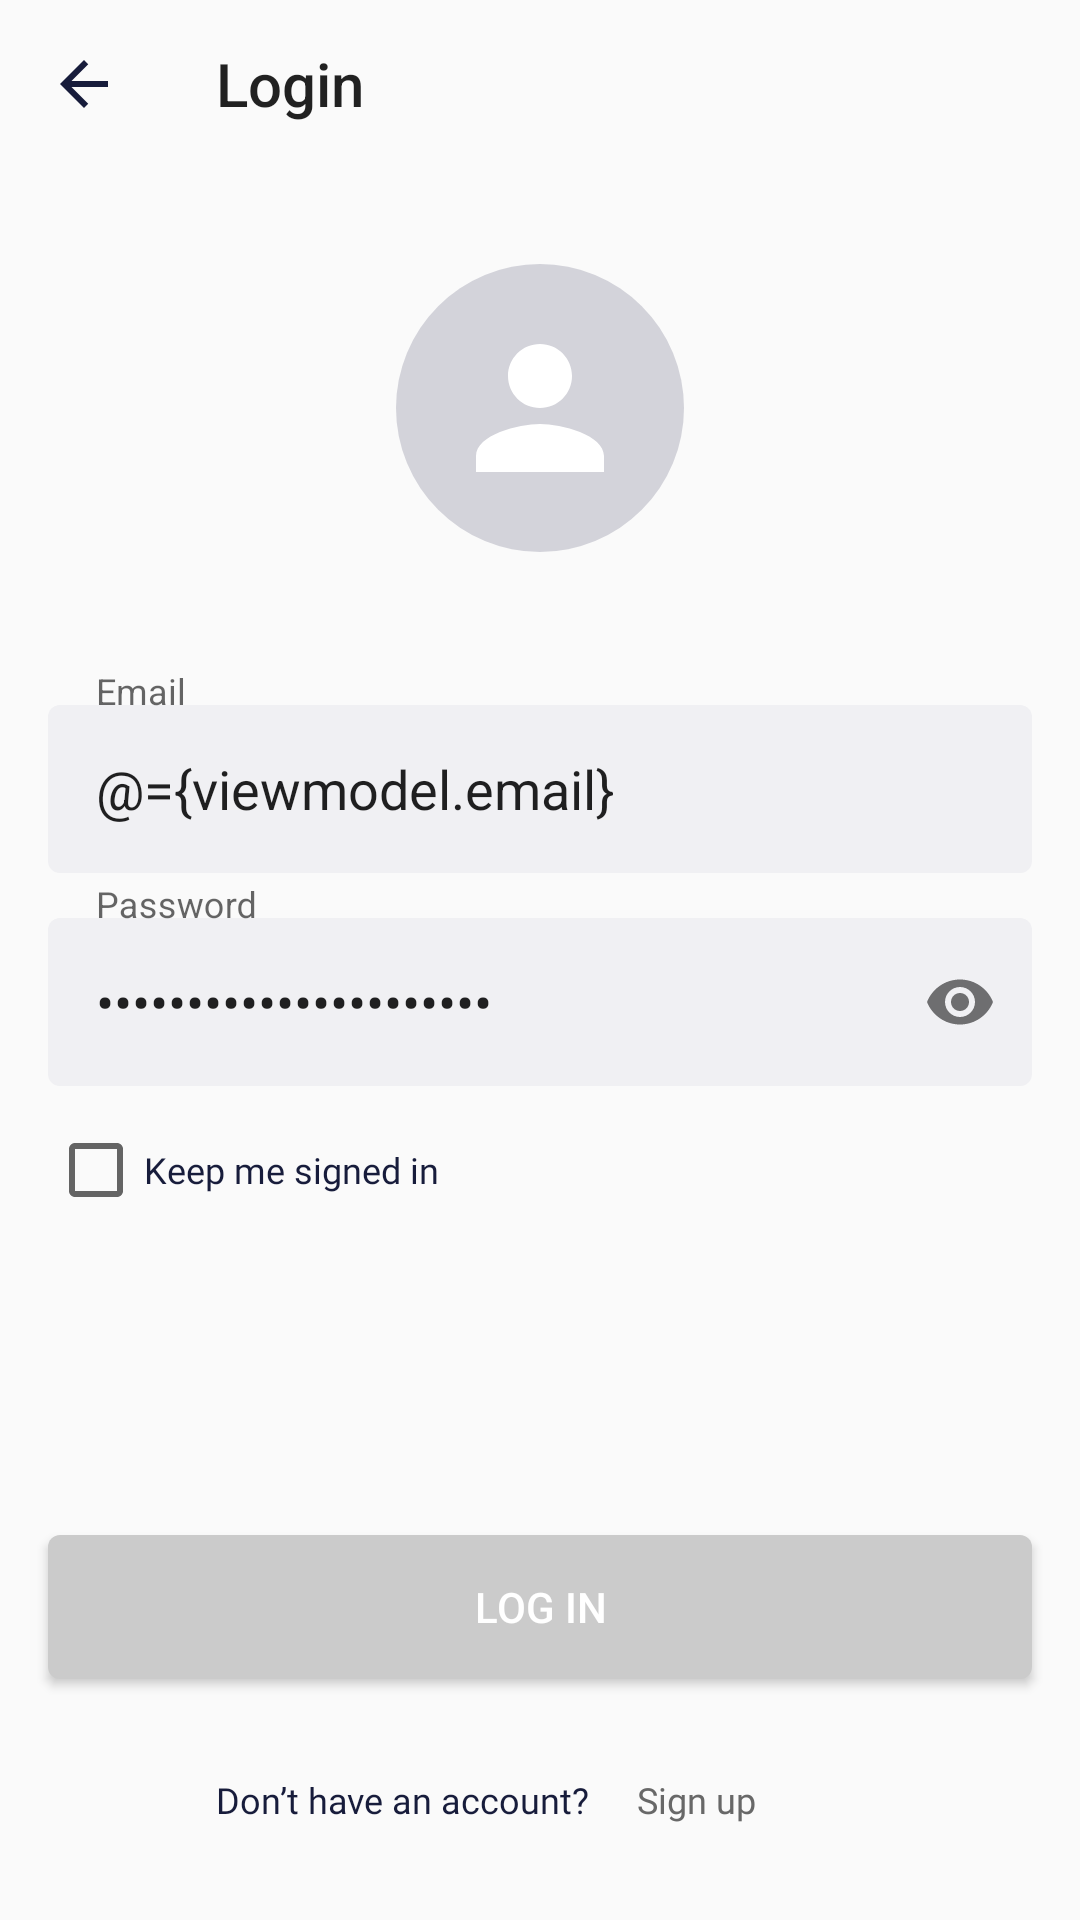

Icon click points for this 1080w x 1920h phone screenshot, format point (x, y):
person: point (540, 408)
